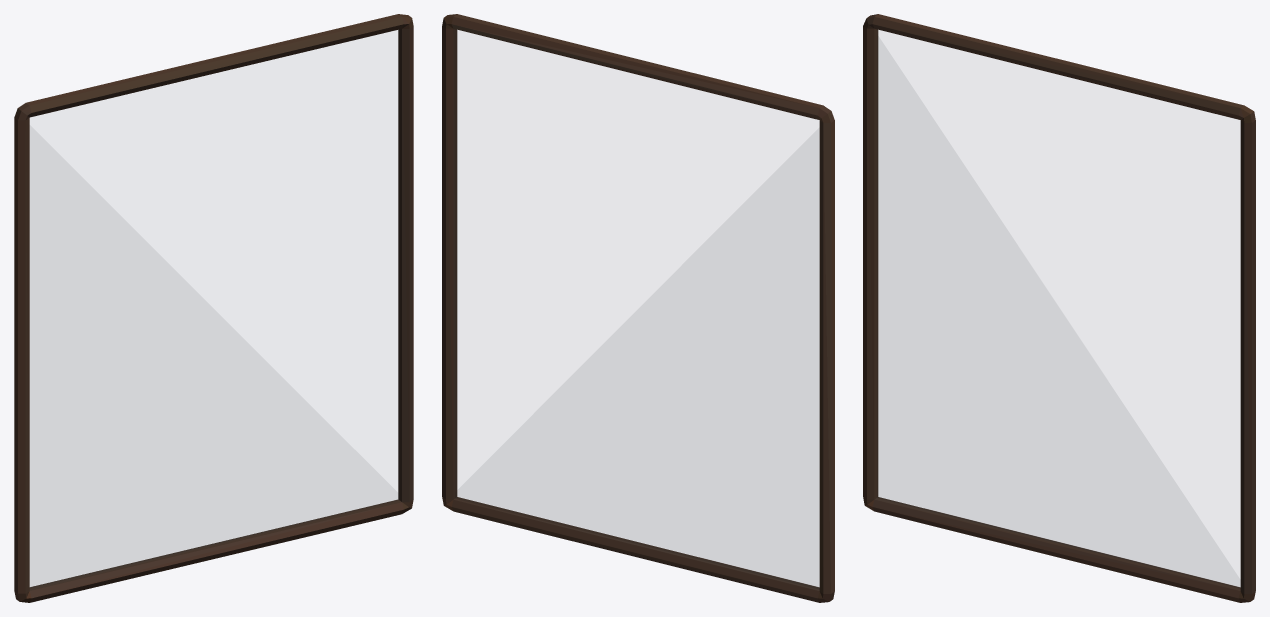
File: lf_metal_gate.glb
3 views of the same model, side by side, from view 1: azimuth 30°, elevation 25°; view 2: azimuth 150°, elevation 25°; view 3: azimuth 330°, elevation 25° (orthographic).
Visible parts, largest first — view 1: Cylinder.005; view 2: Cylinder.005; view 3: Cylinder.005.
Part boxes in pixels (<box>): Cylinder.005: <box>14,14,413,602</box>; Cylinder.005: <box>442,14,834,602</box>; Cylinder.005: <box>863,14,1255,602</box>.
Size of the model in its own units: 1.03 by 1.25 by 0.0453.
